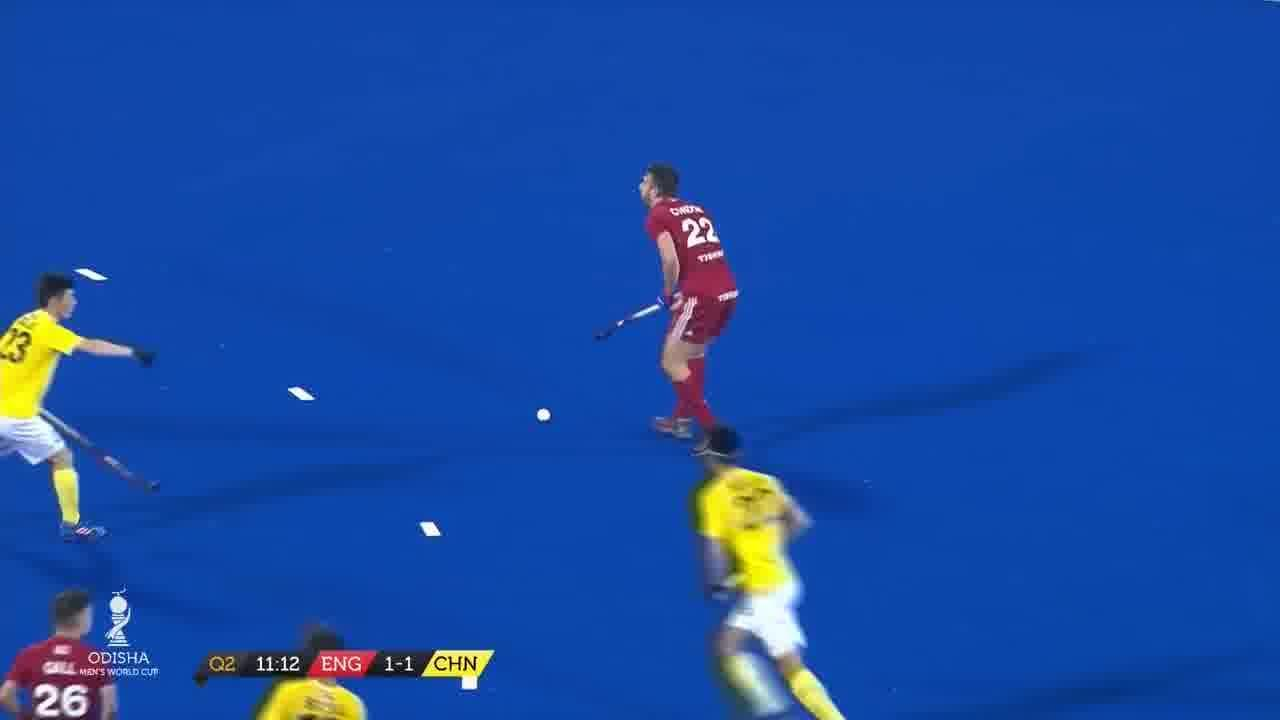ball: (536, 406, 558, 424)
